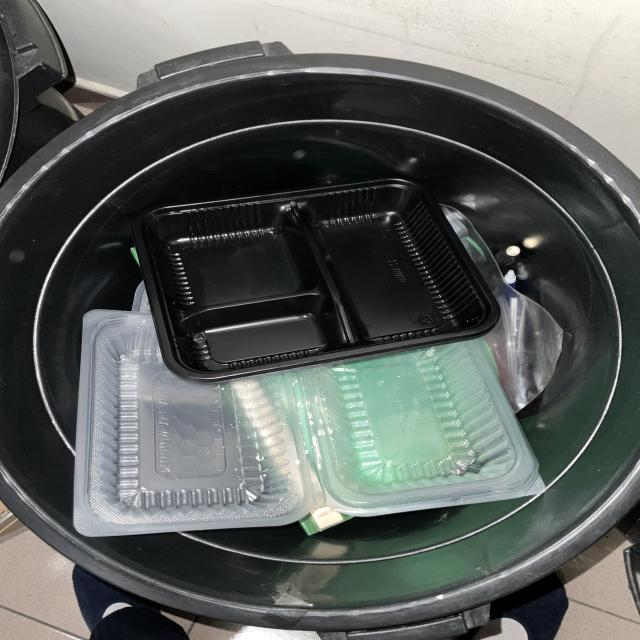plastic: (82, 314, 550, 539), (125, 182, 495, 374)
